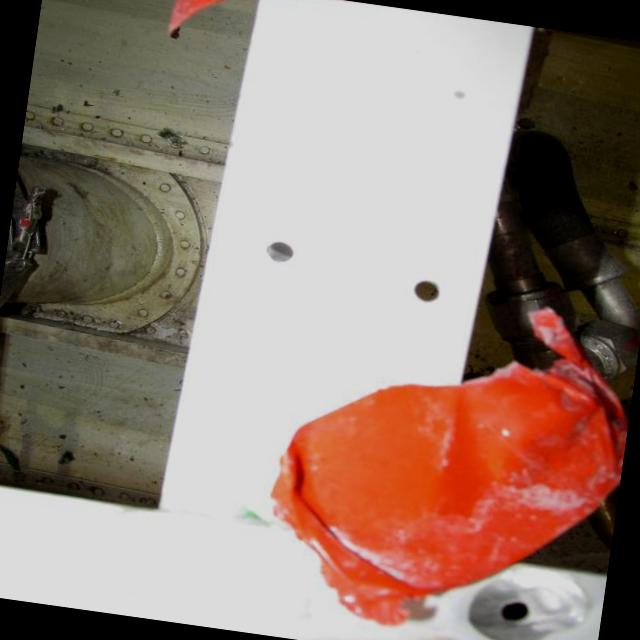Missing Fastener: (258, 238, 302, 272), (492, 594, 532, 630), (404, 275, 446, 308)
